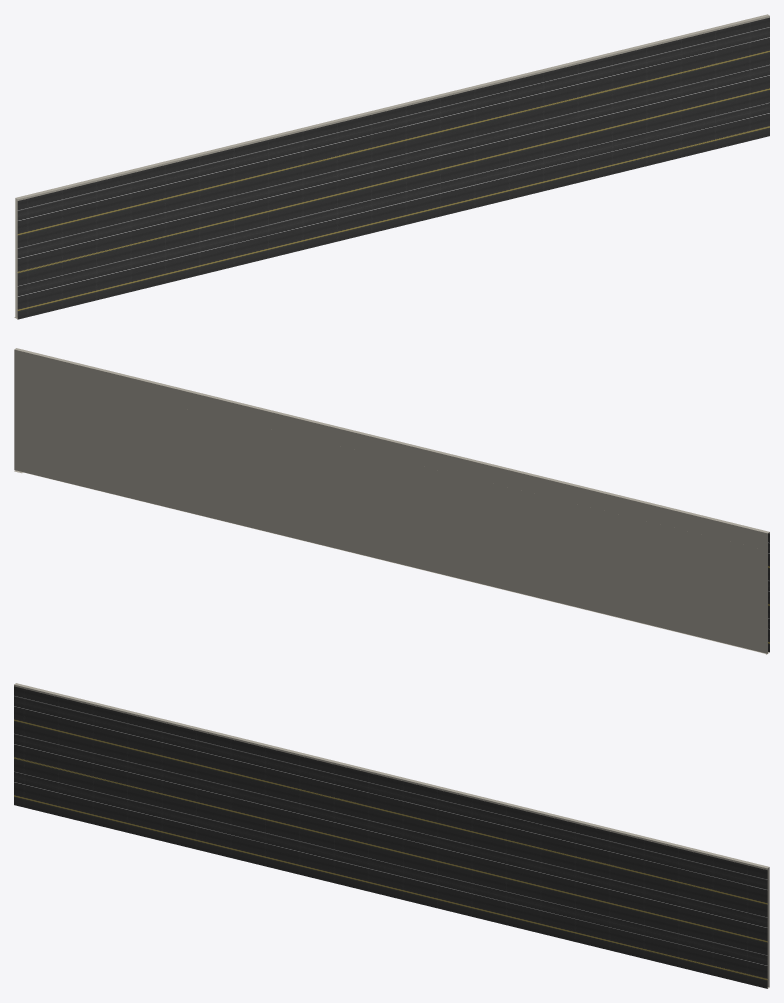
The model's file is deck_06.obj.
3 renders of one model, top to bottom at view 1: azimuth 30°, elevation 25°; view 2: azimuth 150°, elevation 25°; view 3: azimuth 330°, elevation 25°, orthographic.
Visible parts, largest first — view 1: _12, _8; view 2: _8; view 3: _12, _8.
Boxes of the visible parts, x1,y1,x2,y2 form: _12: (17,17,769,319); _8: (14,14,769,319); _8: (14,348,769,654); _12: (14,686,767,988); _8: (14,683,769,988).
Size of the model in its own units: 35.88 by 5.48 by 0.2984.
